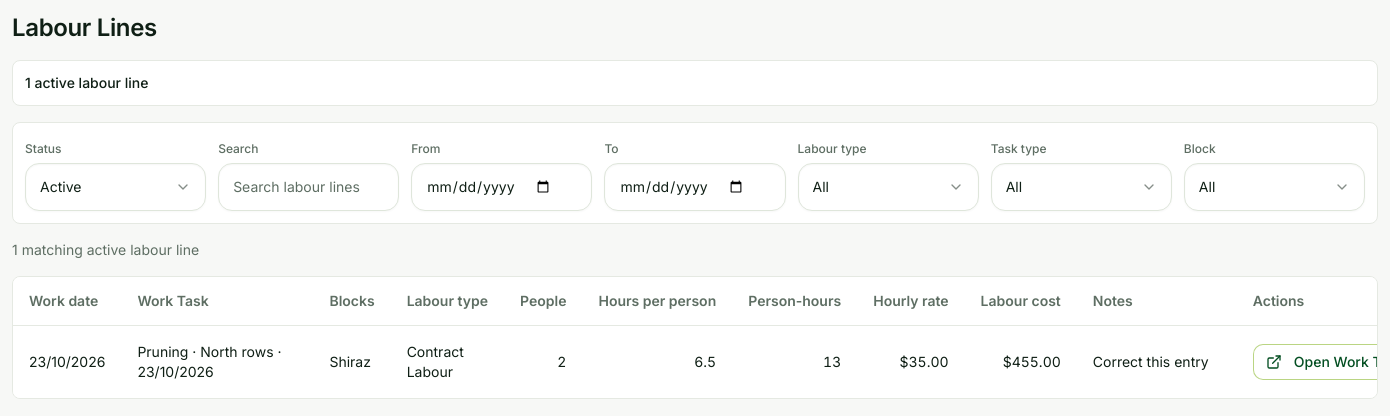
Test: Labour Lines register › uses the canonical vineyard fetch and shows only active selected-vineyard rows with parent/block details
This screenshot has width=1390, height=416.
Expected: the text "Correct this entry" is shown, [1077,325,1237,398]
Expected: the text "Pruning · North rows · 23/10/2026" is shown, [137,342,297,382]
Type "not present" into the field labelled "Search" at [309, 187], box [218,163,399,211]
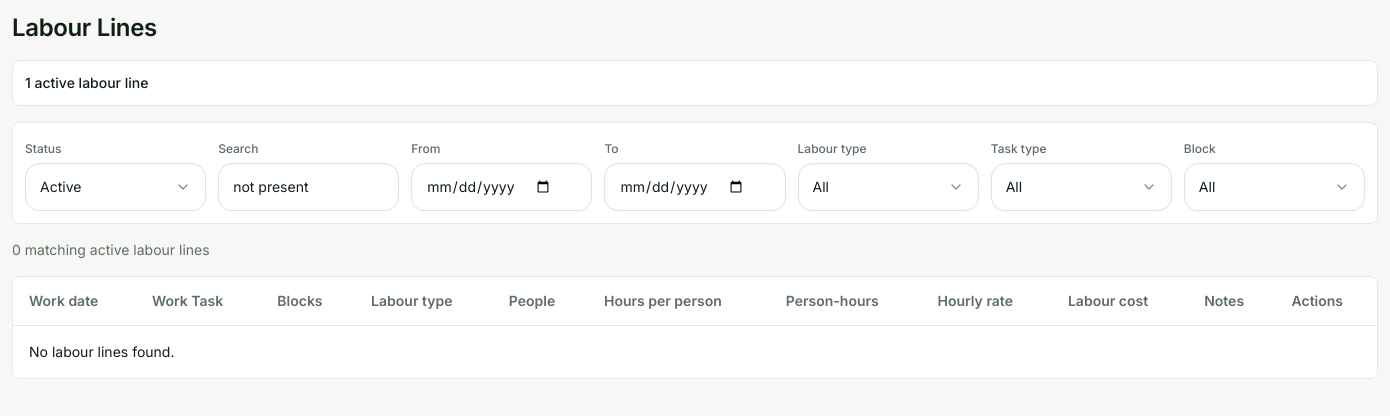
Expected: the text "Correct this entry" is gone
